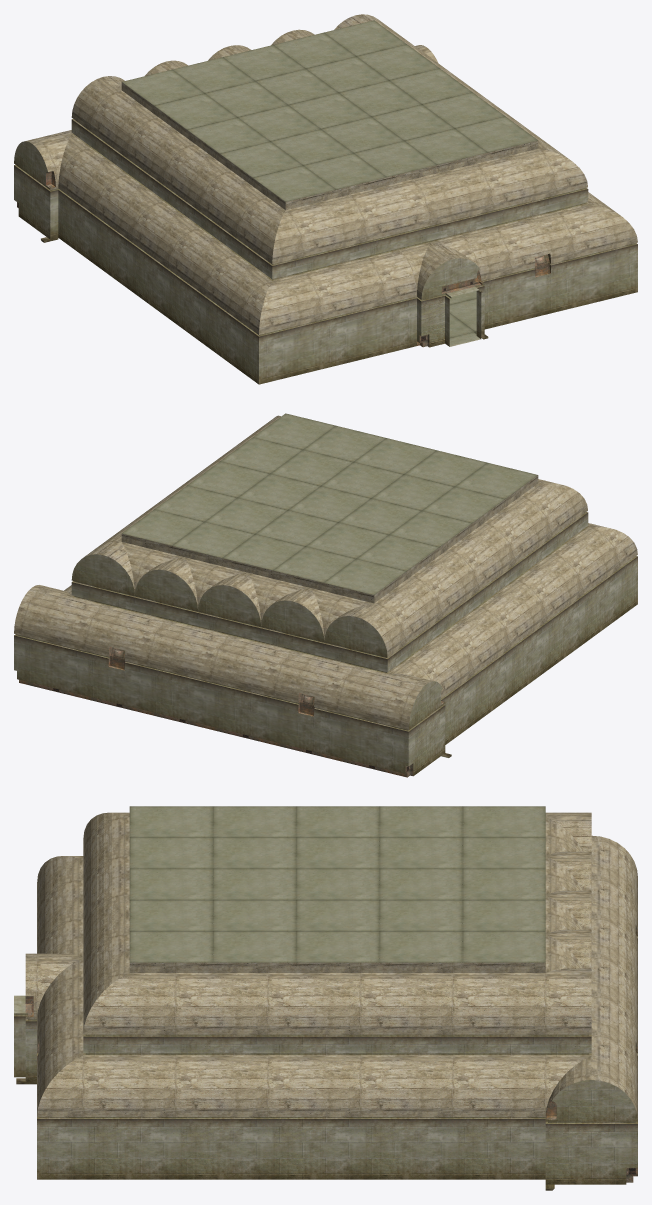
Rendered from poi_all_bunker_allum_mine_r37_medroom37_mesh_r37.fbx.
The picture shows the model from 3 angles, top to bottom: view 1: azimuth 30°, elevation 25°; view 2: azimuth 150°, elevation 25°; view 3: azimuth 270°, elevation 25°; orthographic projection. The views are drawn at different scales.
Visible parts, largest first — view 1: mesh_node; view 2: mesh_node; view 3: mesh_node.
Boxes of the visible parts, left/top/right/bottom form: mesh_node: left=14, top=14, right=637, bottom=384; mesh_node: left=14, top=413, right=637, bottom=777; mesh_node: left=14, top=806, right=637, bottom=1190.
Size of the model in its own units: 25.8 by 8.6 by 27.
